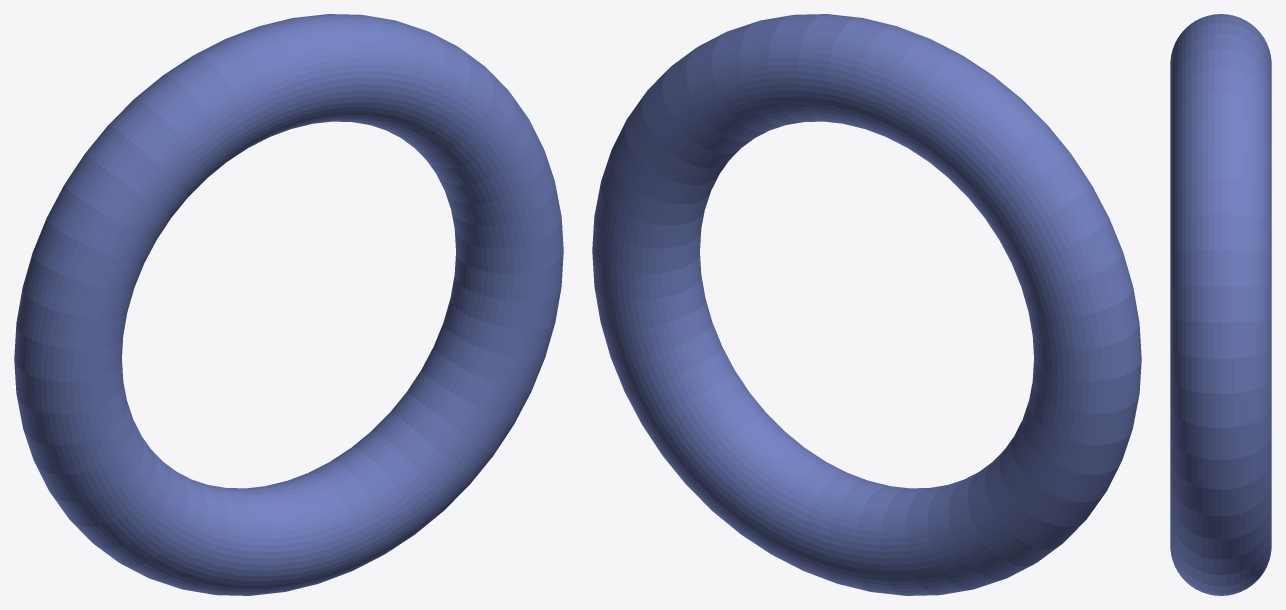
3 renders of one model, left to right at view 1: azimuth 30°, elevation 25°; view 2: azimuth 150°, elevation 25°; view 3: azimuth 270°, elevation 25°, orthographic. The views are drawn at different scales.
Visible parts, largest first — view 1: world; view 2: world; view 3: world.
Part boxes in pixels (box(x1,y1,x2,y2)): world: box(14, 14, 563, 595); world: box(592, 14, 1141, 595); world: box(1170, 14, 1271, 595).
Size of the model in its own units: 14.53 by 14.5 by 2.53.
